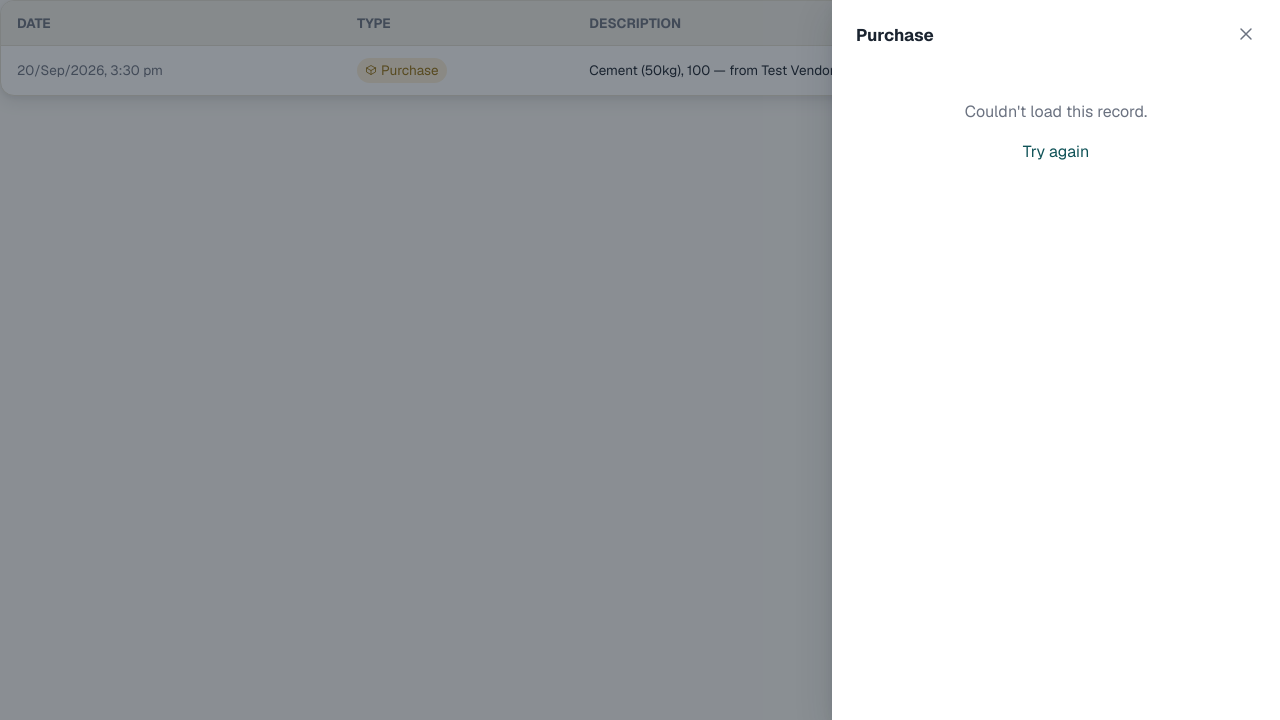
Test: SiteActivityFeedClient › detail panel › shows an error state with a working retry on a fetch failure
Expected: the text "Couldn't load this record." is shown, x1=965 y1=101 x2=1147 y2=122
Click the button "Try again": (1056, 152) x1=1023 y1=140 x2=1089 y2=164
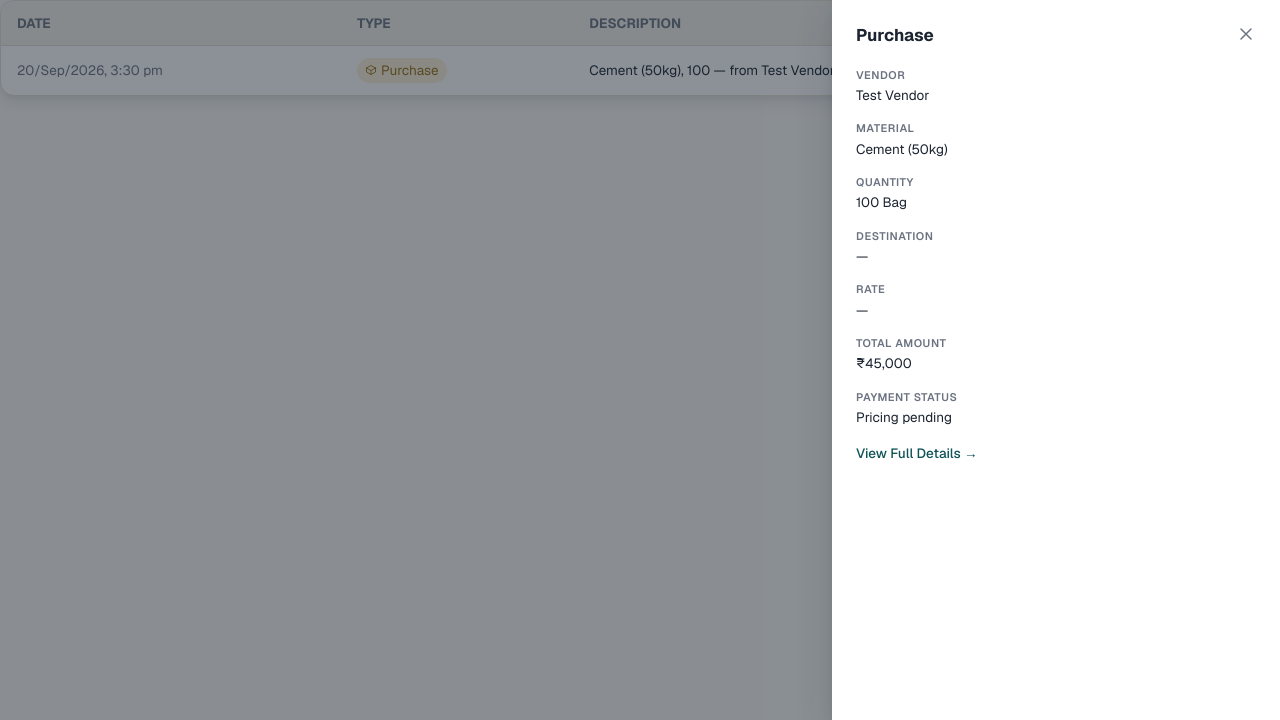
Result: the text "Test Vendor" is shown at x1=856 y1=86 x2=929 y2=104
